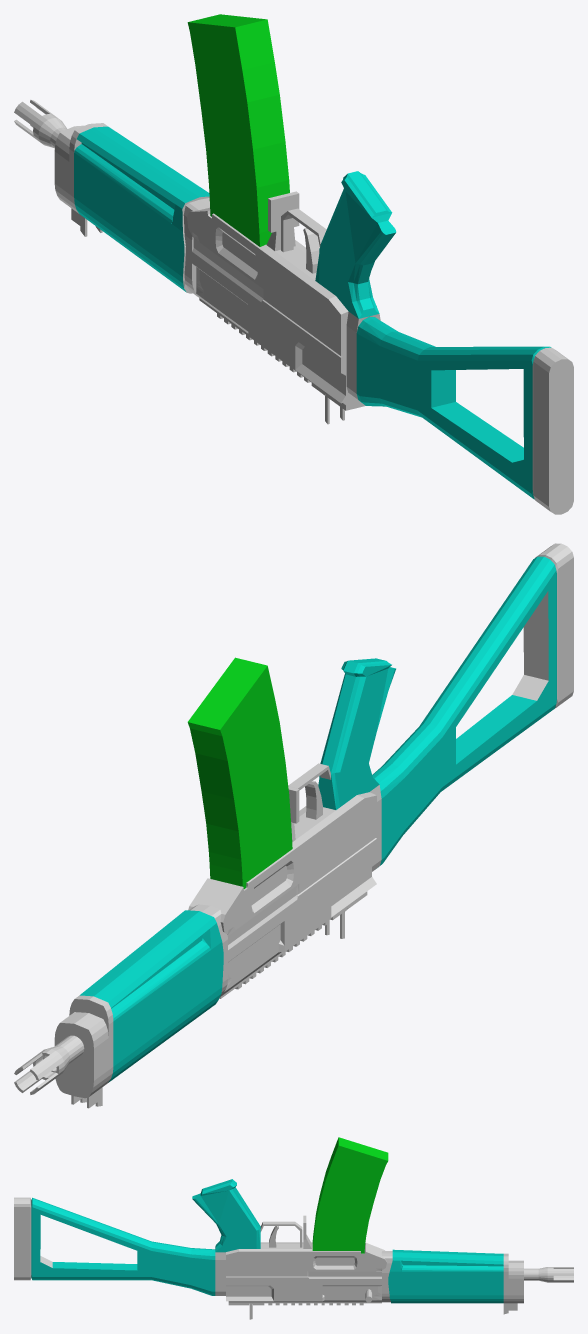
File: SG552_Commando.fbx
The picture shows the model from 3 angles, top to bottom: view 1: azimuth 30°, elevation 25°; view 2: azimuth 150°, elevation 25°; view 3: azimuth 270°, elevation 25°; orthographic projection. The views are drawn at different scales.
Parts seen in each view (by area): view 1: Cylinder; view 2: Cylinder; view 3: Cylinder.
Part boxes in pixels (x1,y1,x2,y2): Cylinder: (14,14,573,514); Cylinder: (14,543,573,1108); Cylinder: (14,1137,573,1319).
Bounding box in the file's own units: 3.22 × 46.07 × 16.
